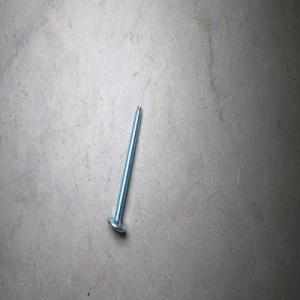Bolt: (106, 103, 142, 234)
